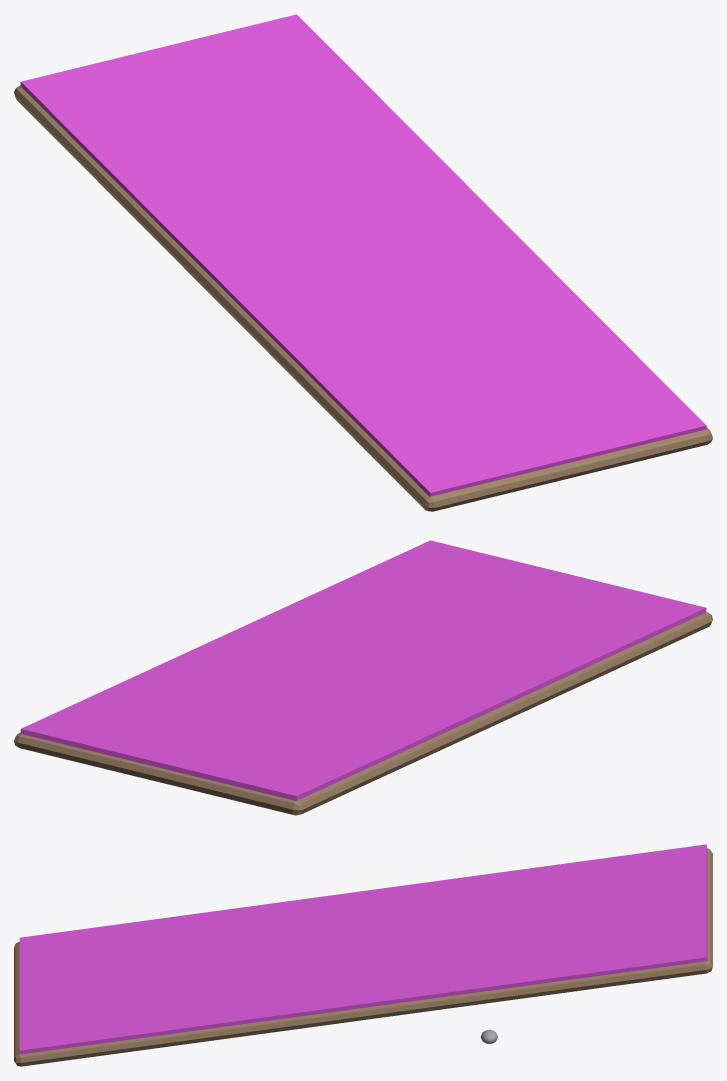
The picture shows the model from 3 angles, top to bottom: view 1: azimuth 30°, elevation 25°; view 2: azimuth 150°, elevation 25°; view 3: azimuth 270°, elevation 25°; orthographic projection. The views are drawn at different scales.
Parts seen in each view (by area): view 1: NAV_MASK_FOREST_PATH_DIRT_SLOPE_DOWN_SLOPE, LOD1_FOREST_PATH_DIRT_SLOPE_DOWN_Slope; view 2: NAV_MASK_FOREST_PATH_DIRT_SLOPE_DOWN_SLOPE, LOD1_FOREST_PATH_DIRT_SLOPE_DOWN_Slope; view 3: NAV_MASK_FOREST_PATH_DIRT_SLOPE_DOWN_SLOPE, LOD1_FOREST_PATH_DIRT_SLOPE_DOWN_Slope.
Part boxes in pixels (x1=…): NAV_MASK_FOREST_PATH_DIRT_SLOPE_DOWN_SLOPE: x1=20, y1=14, x2=706, y2=496; LOD1_FOREST_PATH_DIRT_SLOPE_DOWN_Slope: x1=14, y1=85, x2=712, y2=511; NAV_MASK_FOREST_PATH_DIRT_SLOPE_DOWN_SLOPE: x1=20, y1=540, x2=706, y2=800; LOD1_FOREST_PATH_DIRT_SLOPE_DOWN_Slope: x1=14, y1=612, x2=712, y2=815; NAV_MASK_FOREST_PATH_DIRT_SLOPE_DOWN_SLOPE: x1=19, y1=844, x2=707, y2=1054; LOD1_FOREST_PATH_DIRT_SLOPE_DOWN_Slope: x1=14, y1=848, x2=712, y2=1066.
Size of what is drawn, in the model's own units: 3.2 by 1.38 by 8.
